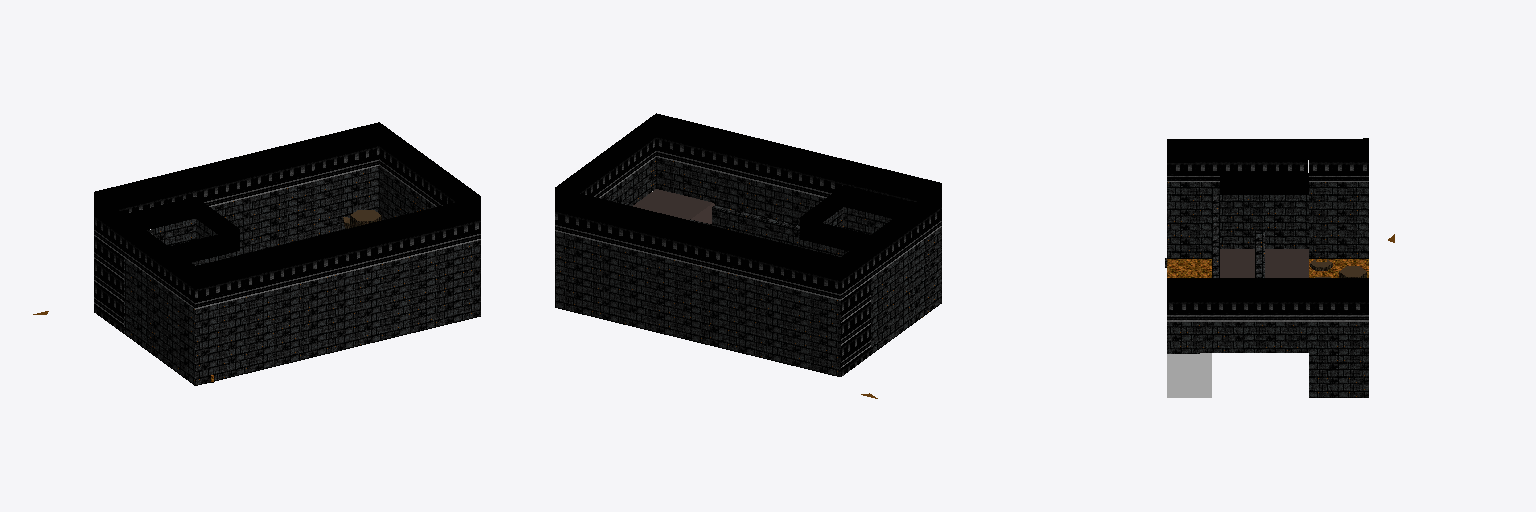
3 views of the same model, side by side, from view 1: azimuth 30°, elevation 25°; view 2: azimuth 150°, elevation 25°; view 3: azimuth 270°, elevation 25° (orthographic).
Visible parts, largest first — view 1: Mesh12 Group2 Model; view 2: Mesh12 Group2 Model; view 3: Mesh12 Group2 Model.
Part boxes in pixels (left/top/right/bottom): Mesh12 Group2 Model: left=94, top=122, right=480, bottom=385; Mesh12 Group2 Model: left=555, top=113, right=941, bottom=376; Mesh12 Group2 Model: left=1165, top=138, right=1368, bottom=397.
Bounding box in the file's own units: 4460 × 1522 × 2638.
Materials: 9 (4 with a texture image).